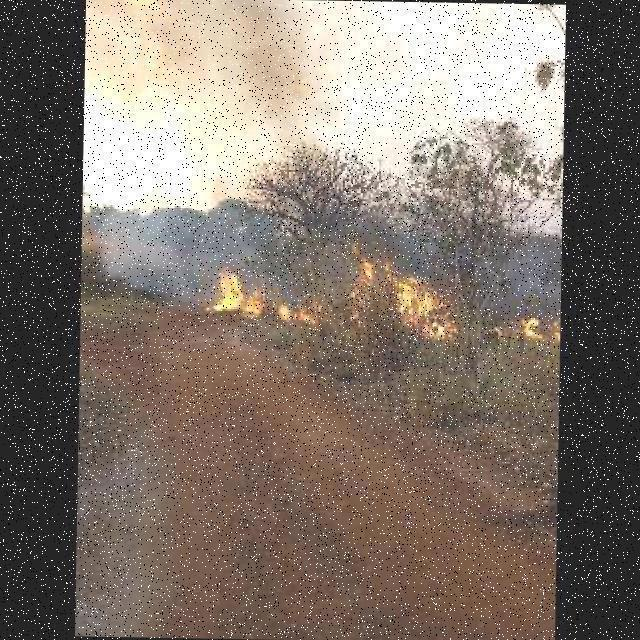Fire: (350, 255, 454, 339), (214, 268, 262, 316), (278, 298, 324, 322), (516, 318, 542, 340)
Smoke: (202, 0, 342, 154), (84, 192, 236, 304)
